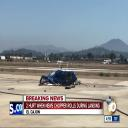helicopter: (39, 60, 83, 92)
